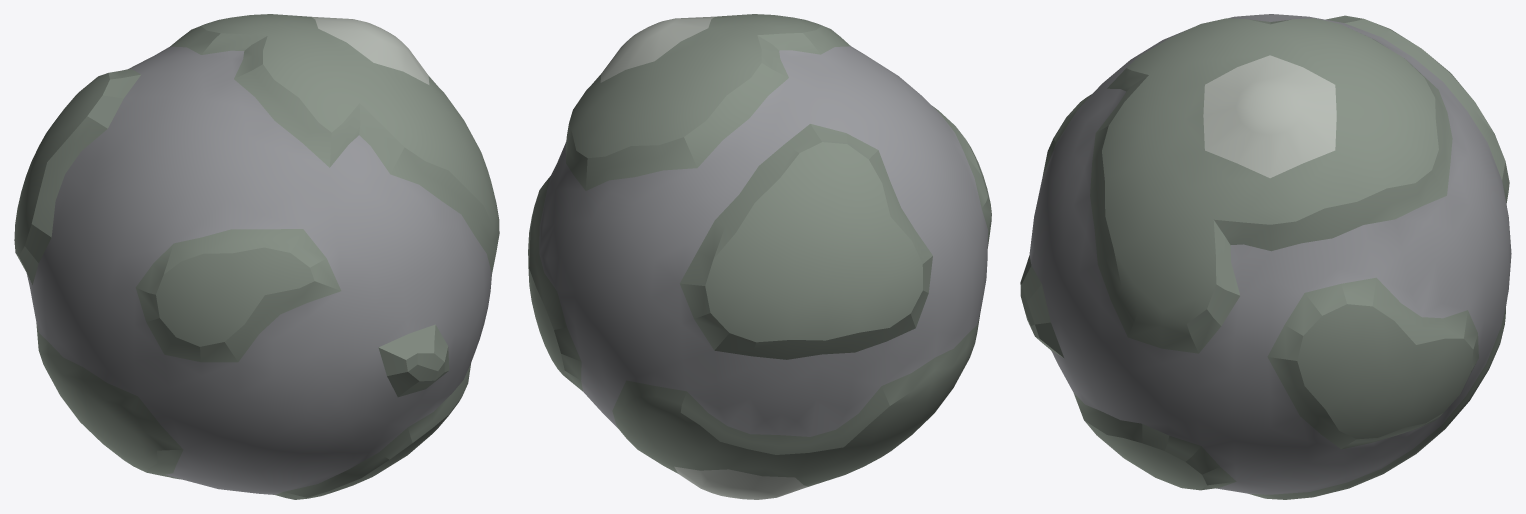
File: planet.glb
The picture shows the model from 3 angles, left to right: view 1: azimuth 30°, elevation 25°; view 2: azimuth 150°, elevation 25°; view 3: azimuth 270°, elevation 25°; orthographic projection. The views are drawn at different scales.
Visible parts, largest first — view 1: Planet_1; view 2: Planet_1; view 3: Planet_1.
Part boxes in pixels (x1,y1,x2,y2): Planet_1: [14, 14, 499, 499]; Planet_1: [528, 14, 991, 499]; Planet_1: [1020, 14, 1511, 499].
Bounding box in the file's own units: 3.78 × 3.93 × 3.8.
1 material, 1 textured.
